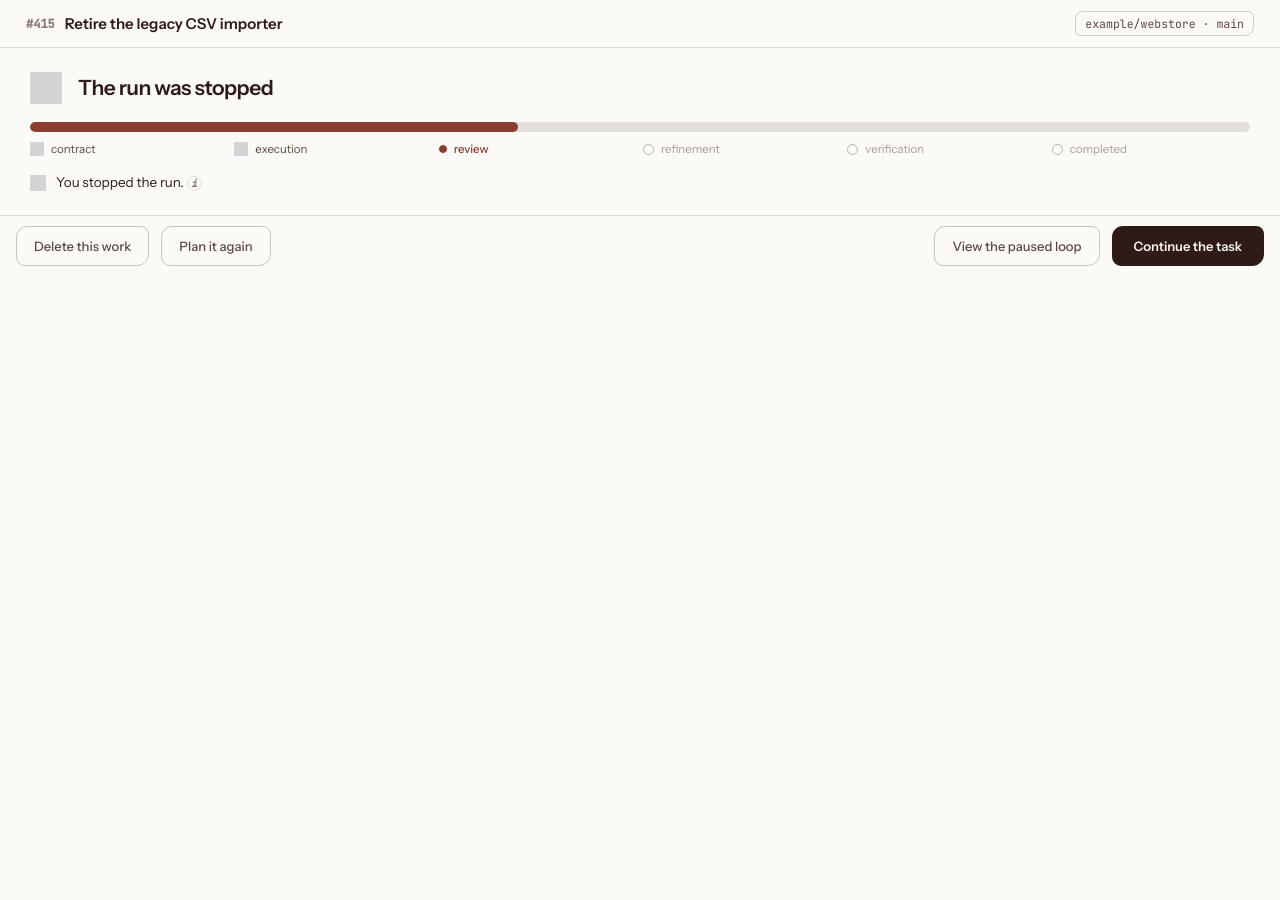
Test: the stopped page › opens the paused loop, its Watch link as on a running ticket, and comes back
The width and height of the screenshot is (1280, 900).
Click the button "View the paused loop" at (1017, 246), box [934,226,1100,266]
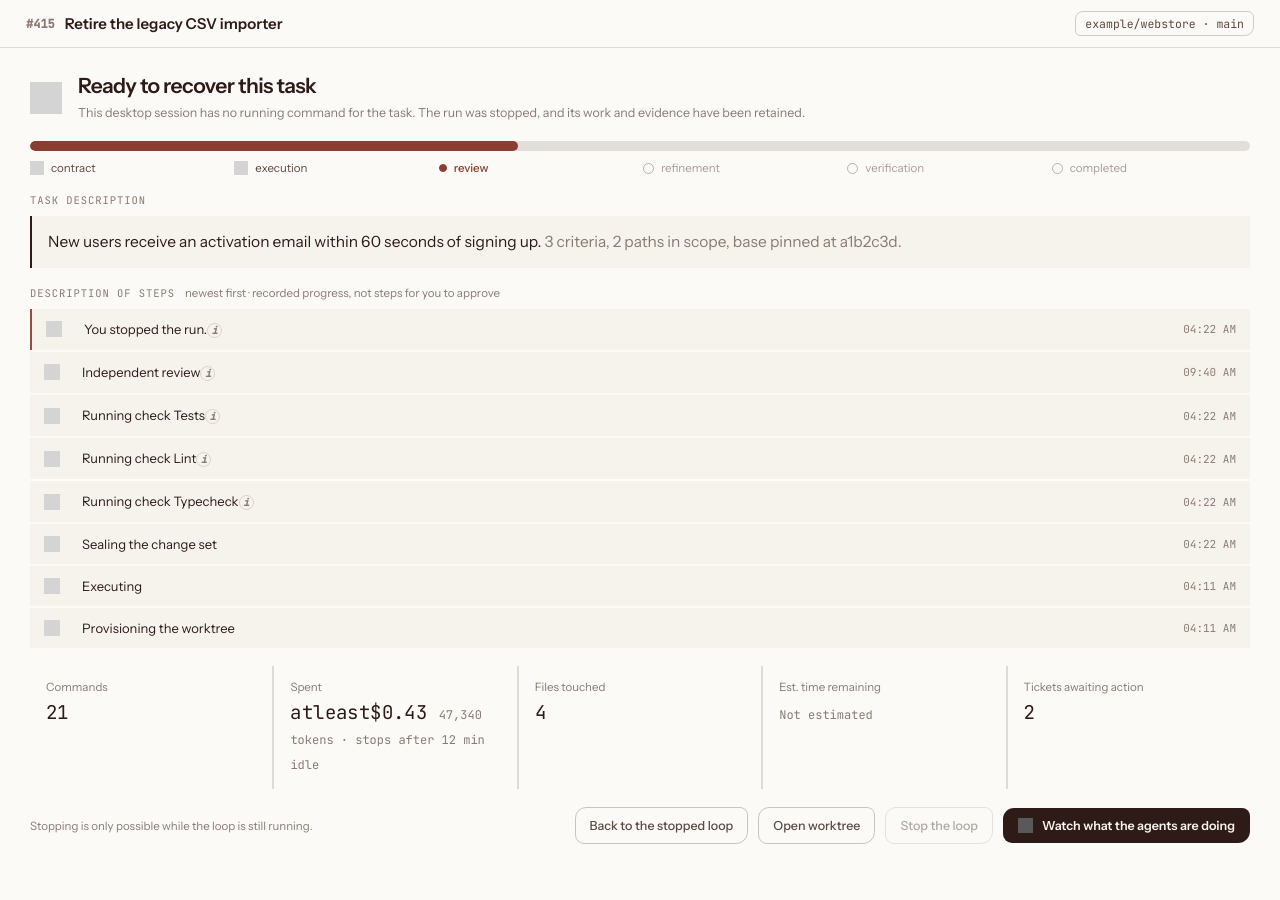
Check: the text "You stopped the run." is shown, box [84,320,207,336]
Click the button "Watch what the agents are doing" at (1126, 826), box [1003,808,1250,844]
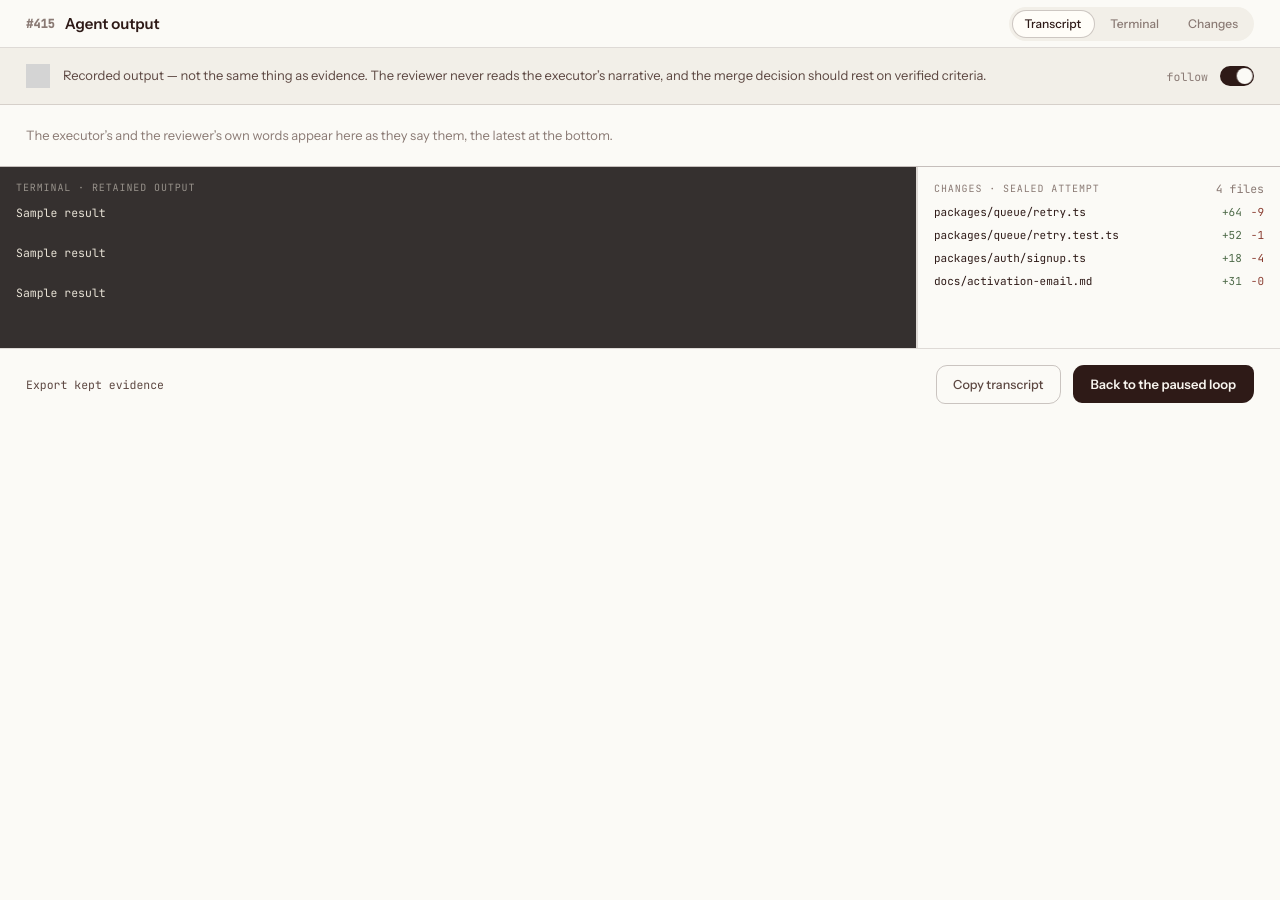
Check: the element that starts with "Agent output" is shown, box [0,0,1279,420]
Click the button "Back to the paused loop" at (1163, 384), box [1072,365,1254,403]
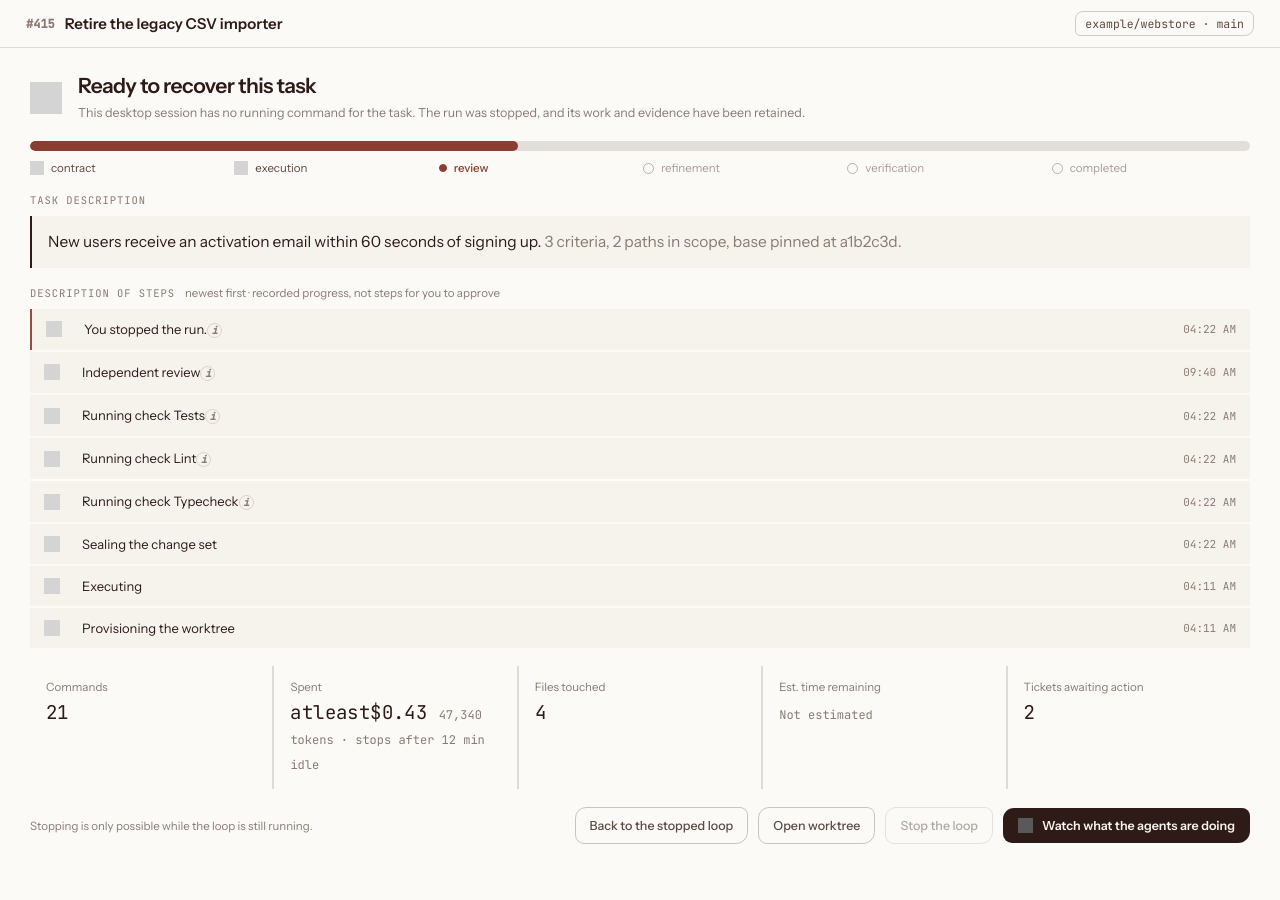
Click the button "Back to the stopped loop" at (661, 826), box [574,808,748,844]
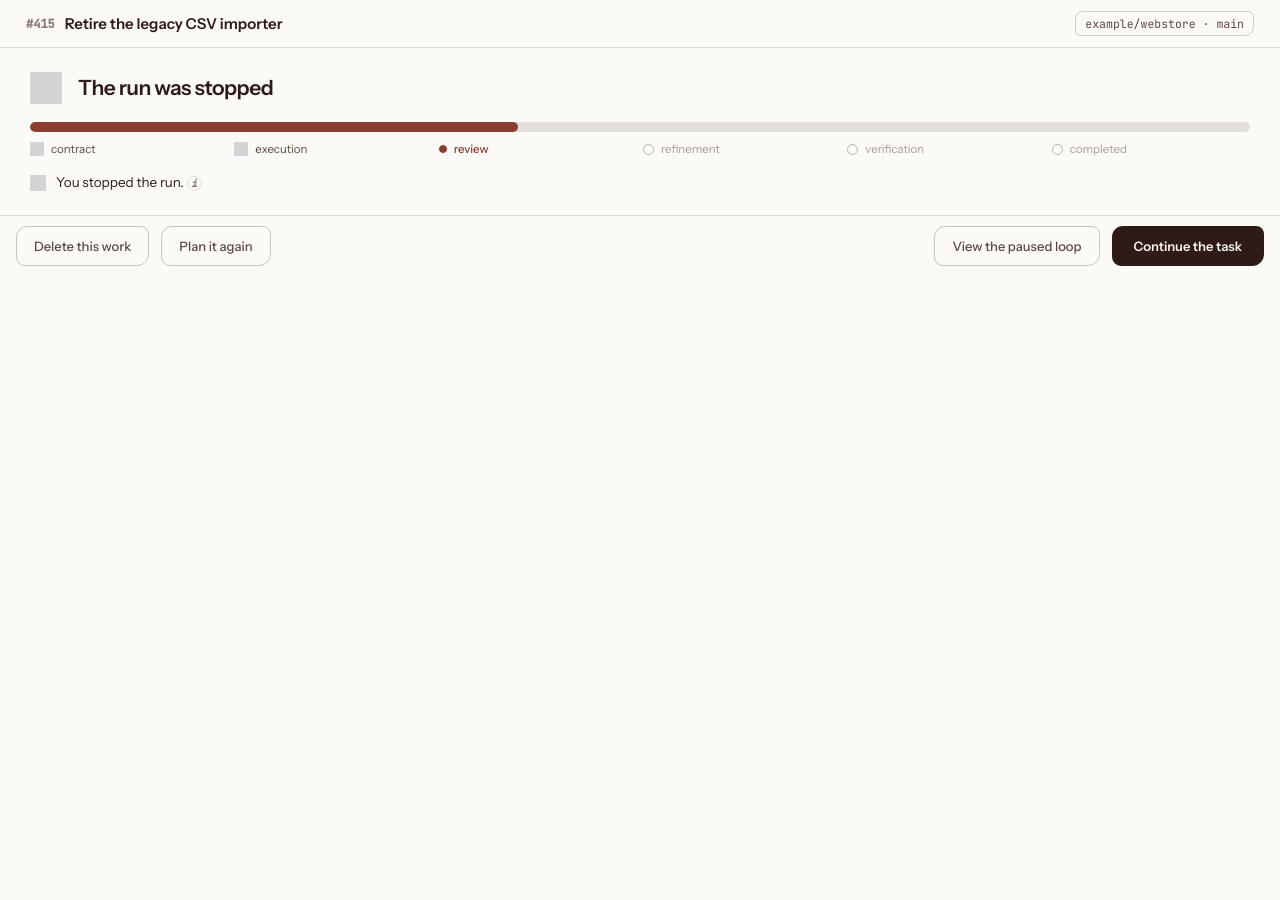
Check: the element that starts with "Retire the legacy CSV importer" is shown, box [0,0,1279,278]
Check: the heading "The run was stopped" is shown, box [78,74,273,102]
